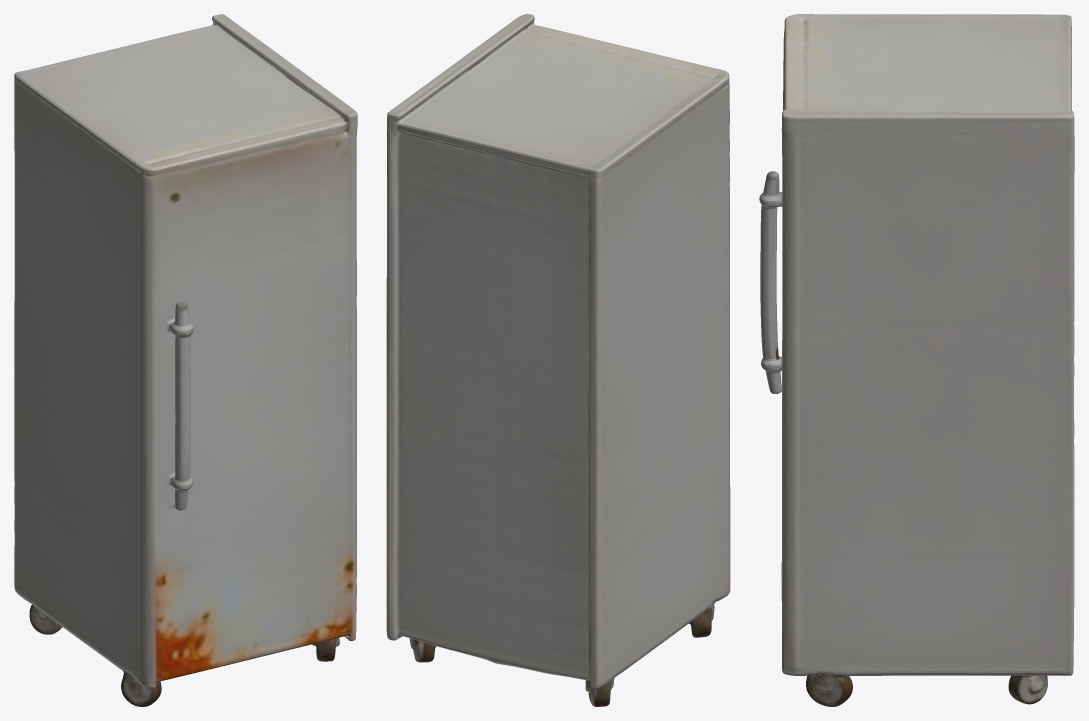
File: garak_wh_fridge.glb
The picture shows the model from 3 angles, left to right: view 1: azimuth 30°, elevation 25°; view 2: azimuth 150°, elevation 25°; view 3: azimuth 270°, elevation 25°; orthographic projection. The views are drawn at different scales.
Visible parts, largest first — view 1: garak_wh_fridge.obj; view 2: garak_wh_fridge.obj; view 3: garak_wh_fridge.obj.
Boxes of the visible parts, left/top/right/bottom form: garak_wh_fridge.obj: left=14, top=14, right=357, bottom=706; garak_wh_fridge.obj: left=386, top=14, right=730, bottom=706; garak_wh_fridge.obj: left=759, top=14, right=1074, bottom=706.
Bounding box in the file's own units: 0.7931 × 1.97 × 0.9475.
Materials: 1 (1 with a texture image).
